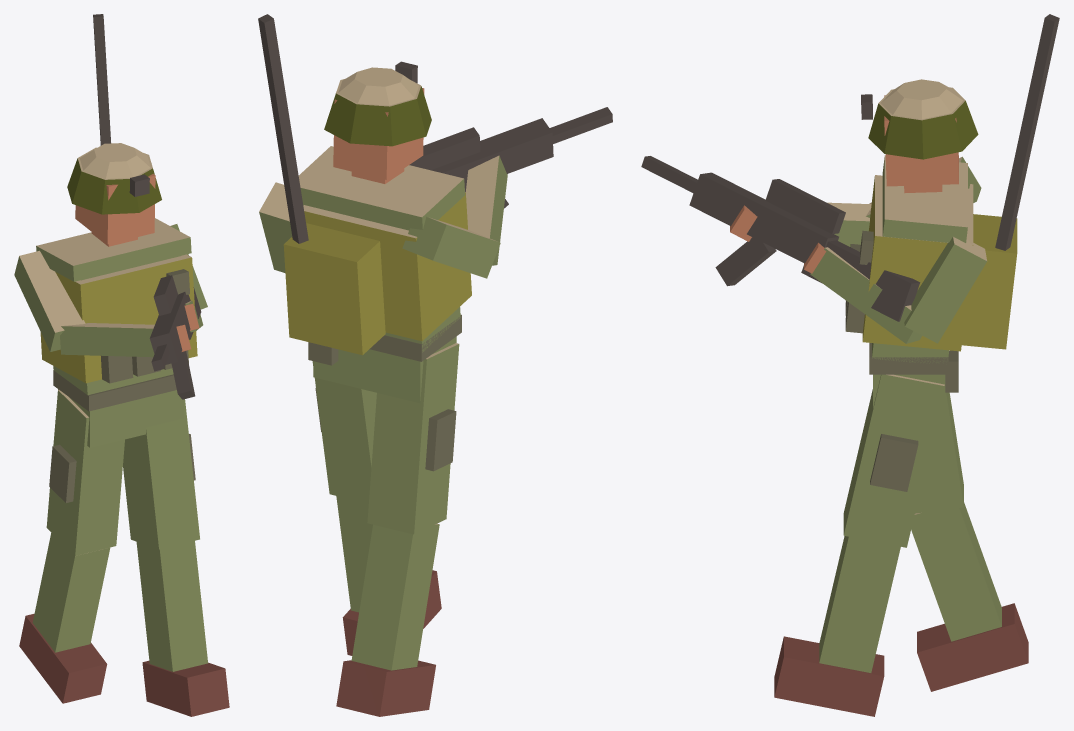
File: SM_SoldadoArmado_v5_G36E_Apuntando_LOD0.fbx
3 views of the same model, side by side, from view 1: azimuth 30°, elevation 25°; view 2: azimuth 150°, elevation 25°; view 3: azimuth 270°, elevation 25° (orthographic). The views are drawn at different scales.
Visible parts, largest first — view 1: SM_bloques.soldado_armado_v5_LOD0; view 2: SM_bloques.soldado_armado_v5_LOD0; view 3: SM_bloques.soldado_armado_v5_LOD0.
Boxes of the visible parts, x1=… form: SM_bloques.soldado_armado_v5_LOD0: x1=14, y1=14, x2=229, y2=716; SM_bloques.soldado_armado_v5_LOD0: x1=258, y1=14, x2=612, y2=716; SM_bloques.soldado_armado_v5_LOD0: x1=641, y1=14, x2=1059, y2=716.
Bounding box in the file's own units: 0.5789 × 2.04 × 1.1.
